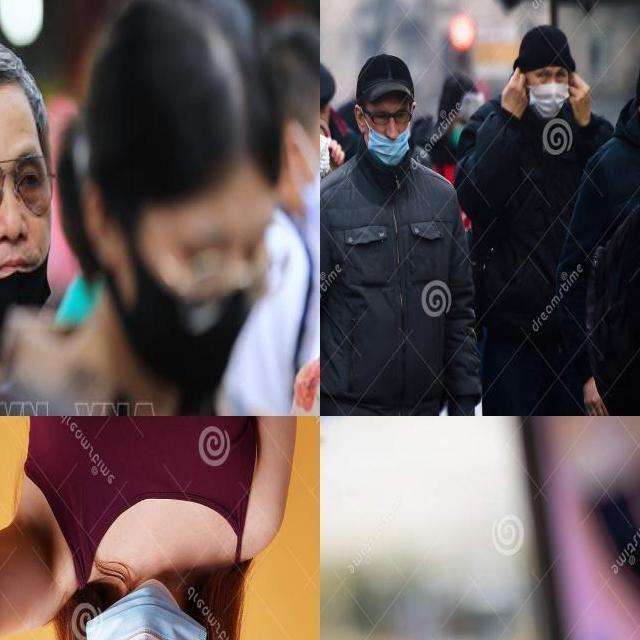hairnet: (0, 141, 54, 350), (371, 105, 409, 158)
mask: (531, 77, 573, 121)
no_apron: (568, 75, 599, 129), (498, 65, 529, 118)
no_gloves: (74, 0, 285, 228), (0, 39, 59, 172)
